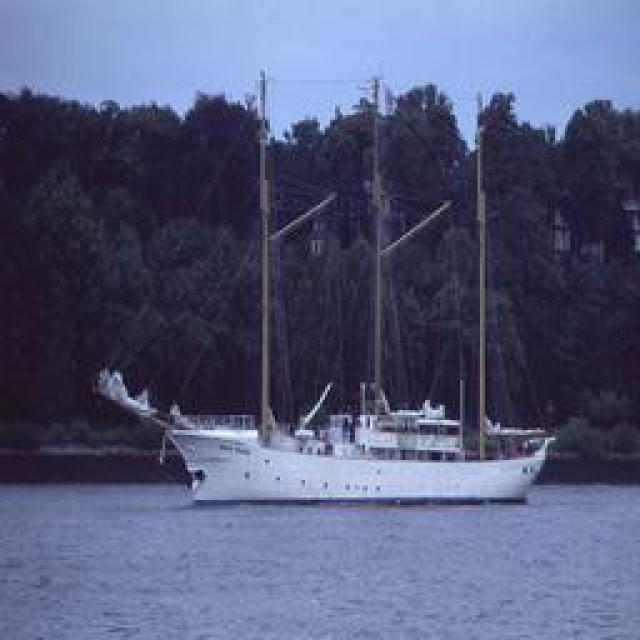Ship: (176, 390, 559, 508)
